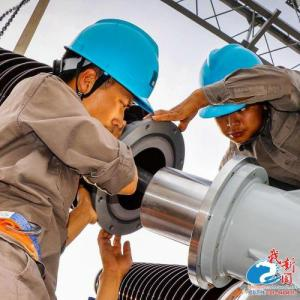blue: (57, 17, 159, 143), (200, 43, 266, 147)
